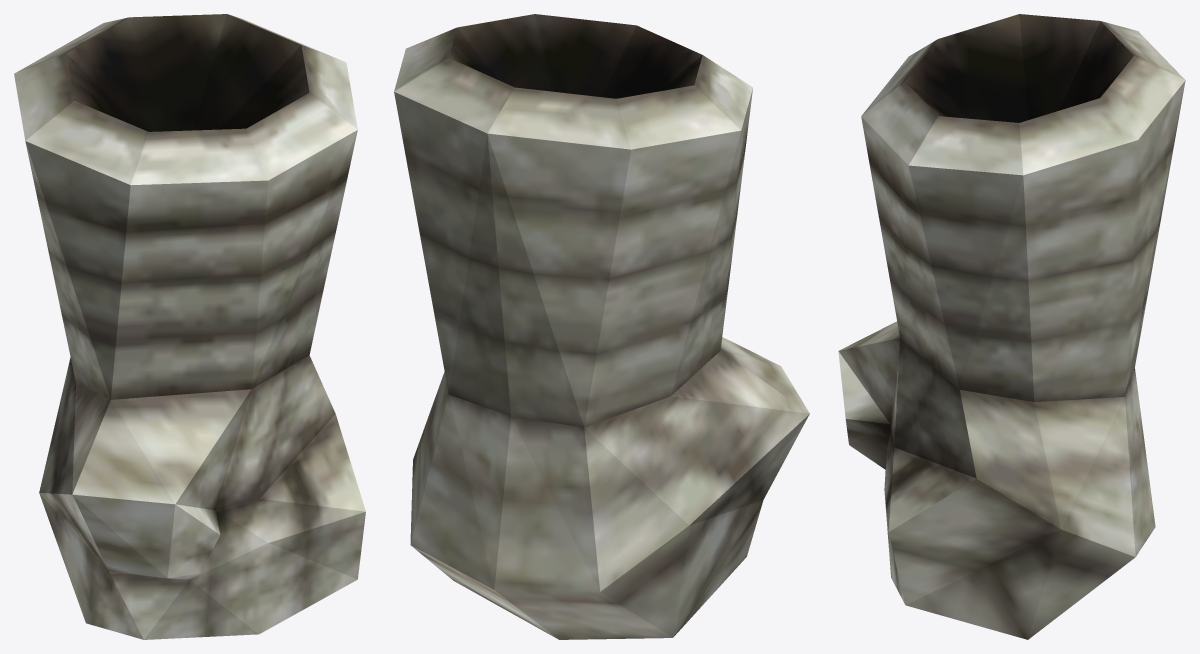
File: Panda_fighterFist_left.obj
3 views of the same model, side by side, from view 1: azimuth 30°, elevation 25°; view 2: azimuth 150°, elevation 25°; view 3: azimuth 270°, elevation 25° (orthographic). The views are drawn at different scales.
Parts seen in each view (by area): view 1: Panda_fighterFist_tri [left]; view 2: Panda_fighterFist_tri [left]; view 3: Panda_fighterFist_tri [left].
Part boxes in pixels (x1,y1,x2,y2): Panda_fighterFist_tri [left]: [14, 14, 365, 639]; Panda_fighterFist_tri [left]: [394, 14, 809, 639]; Panda_fighterFist_tri [left]: [838, 14, 1185, 639].
Bounding box in the file's own units: 0.1087 × 0.1786 × 0.1005.
1 material, 1 textured.
